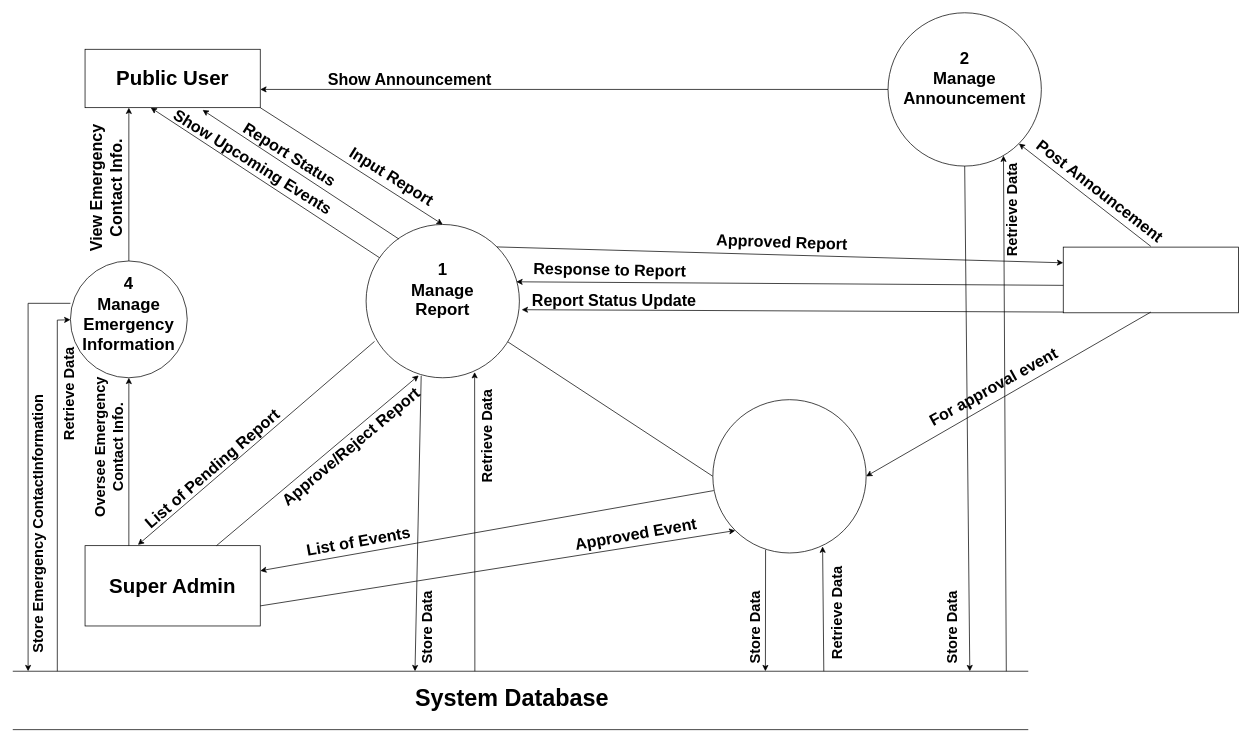
The diagram is 1251 pixels wide and 745 high, and some of its shapes have lost their labels. The centre of each missing label's shape, as x and y in pixels:
3 Manage Events: the point at 789,476
Admin: the point at 1150,279
